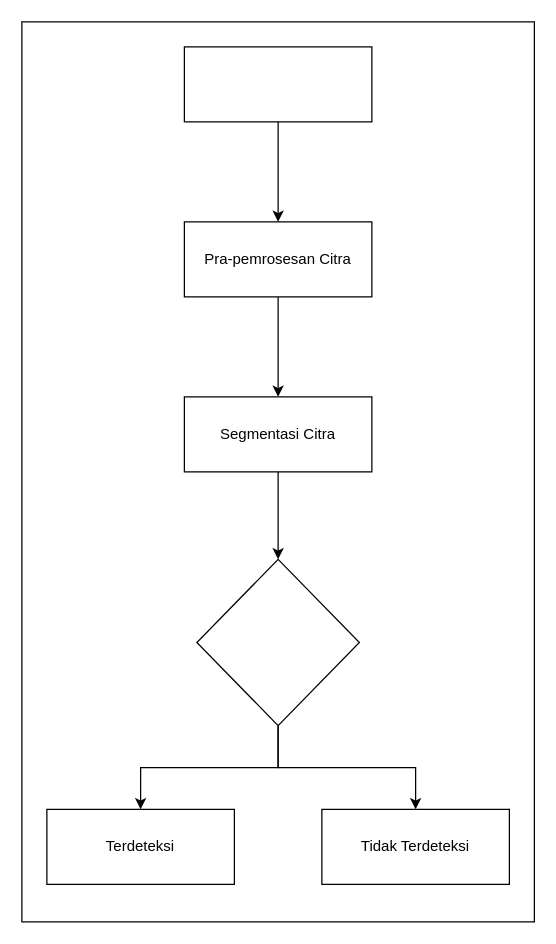
This 556x944 diagram has some shape labels left out. Here are the shapes that lost their labels. From the top down, the centre of each, then its label:
the point at 277,84: Akusisi Citra
the point at 277,642: Hasil Analisis Fitur Objek ?
